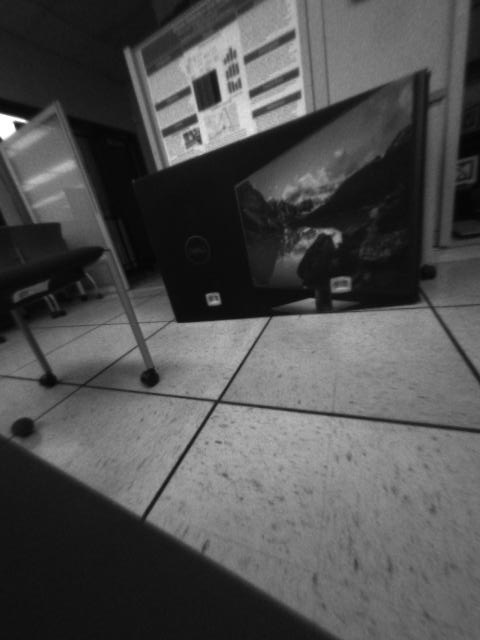dogtoy: (8, 406, 40, 442)
